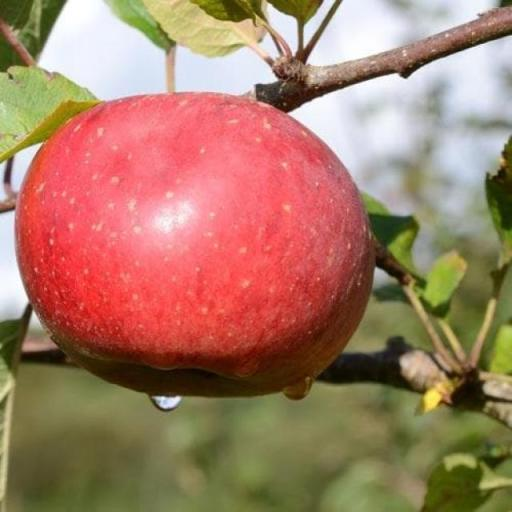fruit: (16, 94, 374, 396)
